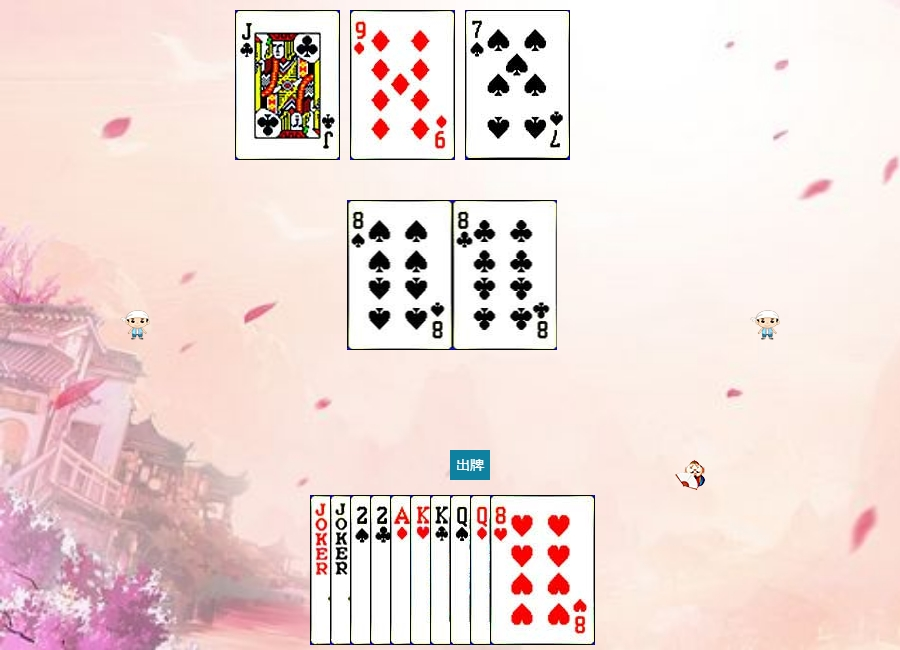11~2: (235, 10, 340, 160)
12~1: (470, 495, 575, 645)
12~4: (450, 495, 555, 645)
13~2: (430, 495, 535, 645)
13~3: (410, 495, 515, 645)
14~1: (390, 495, 495, 645)
15~2: (370, 495, 475, 645)
15~4: (350, 495, 455, 645)
17~3: (330, 495, 435, 645)
18~4: (310, 495, 415, 645)
7~4: (465, 10, 570, 160)
8~2: (453, 200, 558, 350)
8~3: (490, 495, 595, 645)
8~4: (348, 200, 453, 350)
9~1: (350, 10, 455, 160)
